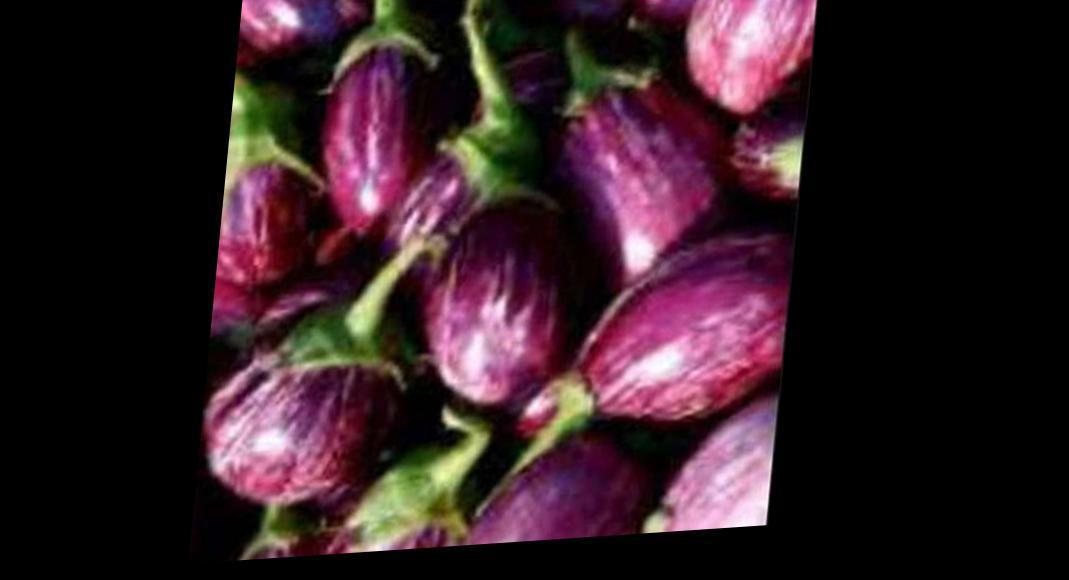eggplant: (241, 0, 799, 564)
